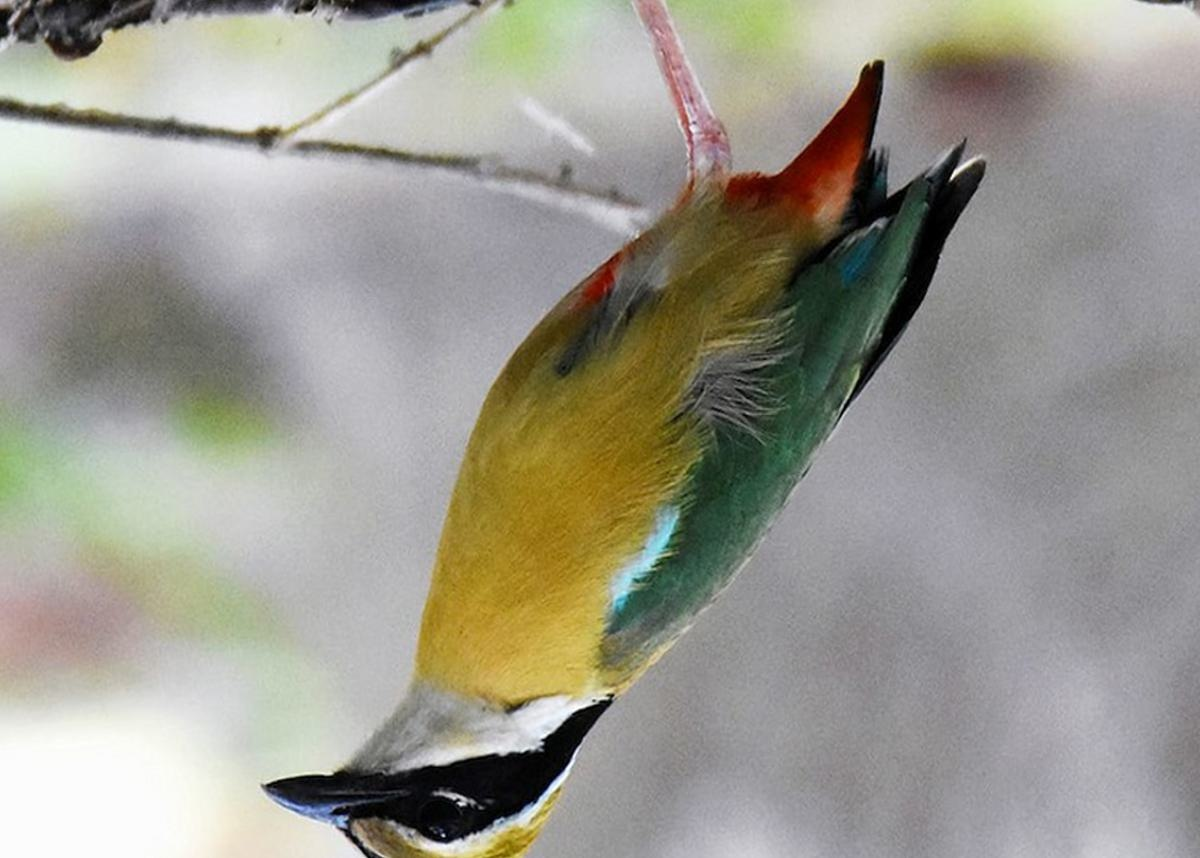pitta: (149, 56, 1009, 858)
